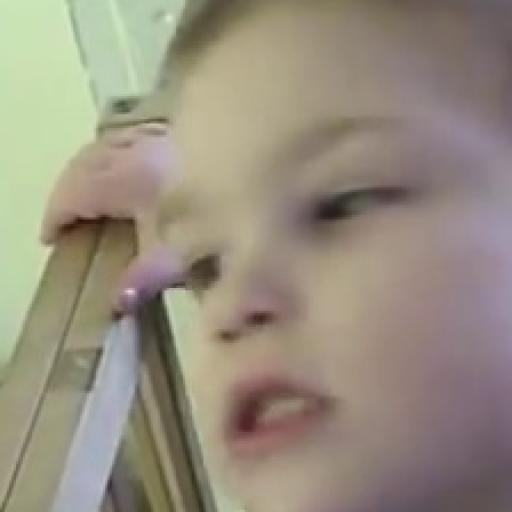Autism: (121, 0, 512, 512)
